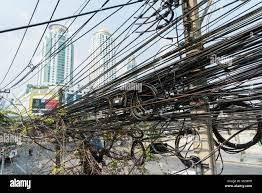wires-only: (59, 2, 262, 169)
